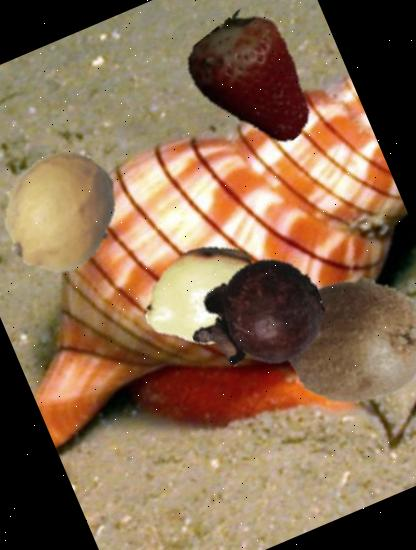Kiwi: (263, 246, 416, 436)
Lemon: (0, 129, 143, 294)
Mangostan: (168, 228, 344, 404)
Quince: (123, 216, 287, 379)
Strawberry: (167, 0, 347, 172)
